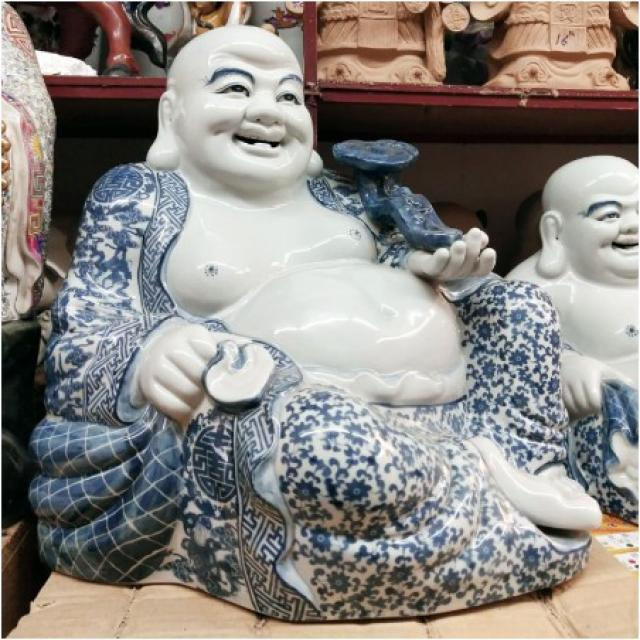Smiling Buddha: (143, 24, 394, 469)
